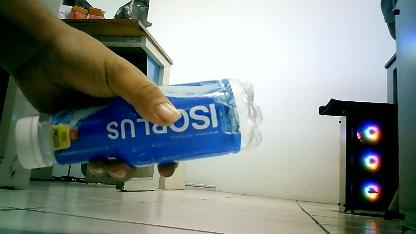Plastic Bottle: (6, 71, 280, 194)
